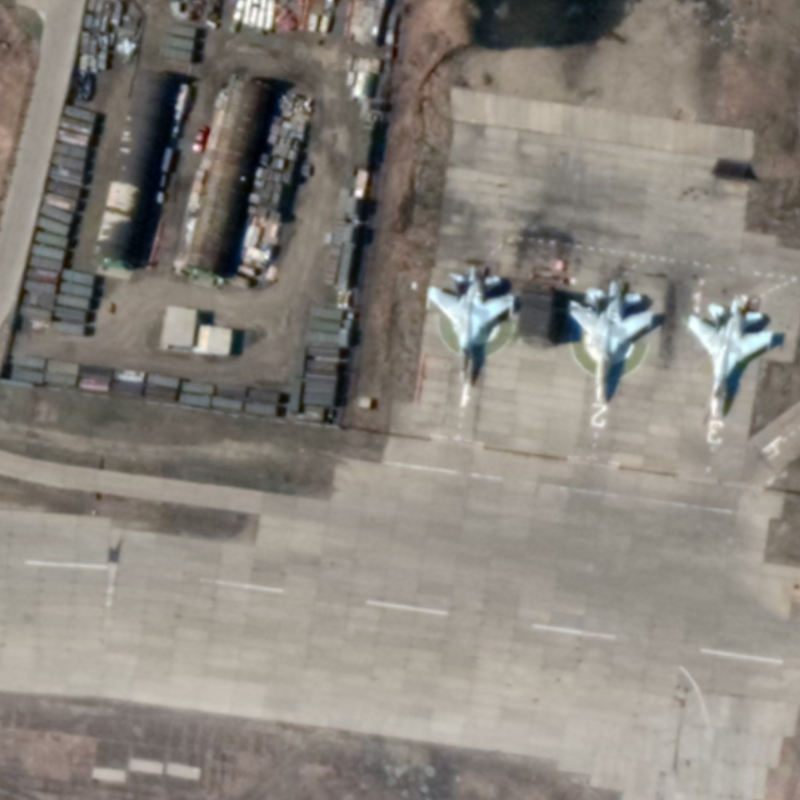A1: (425, 262, 517, 411), (564, 278, 656, 407), (683, 292, 775, 420)
